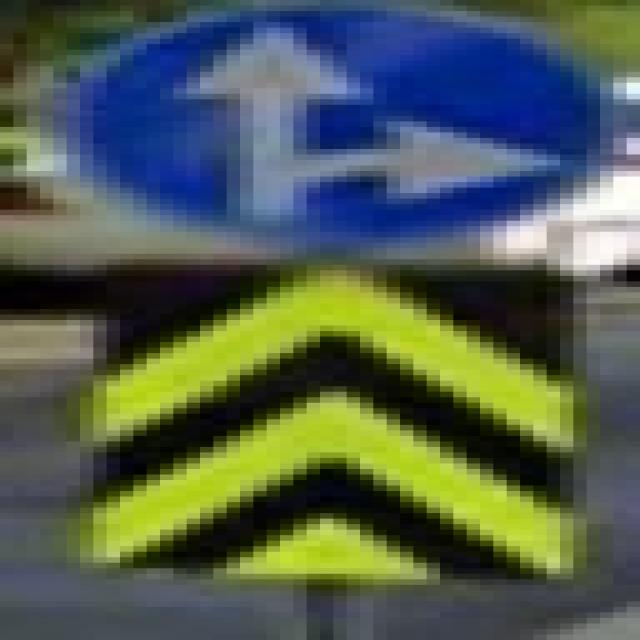Straight or Right: (61, 7, 594, 244)
